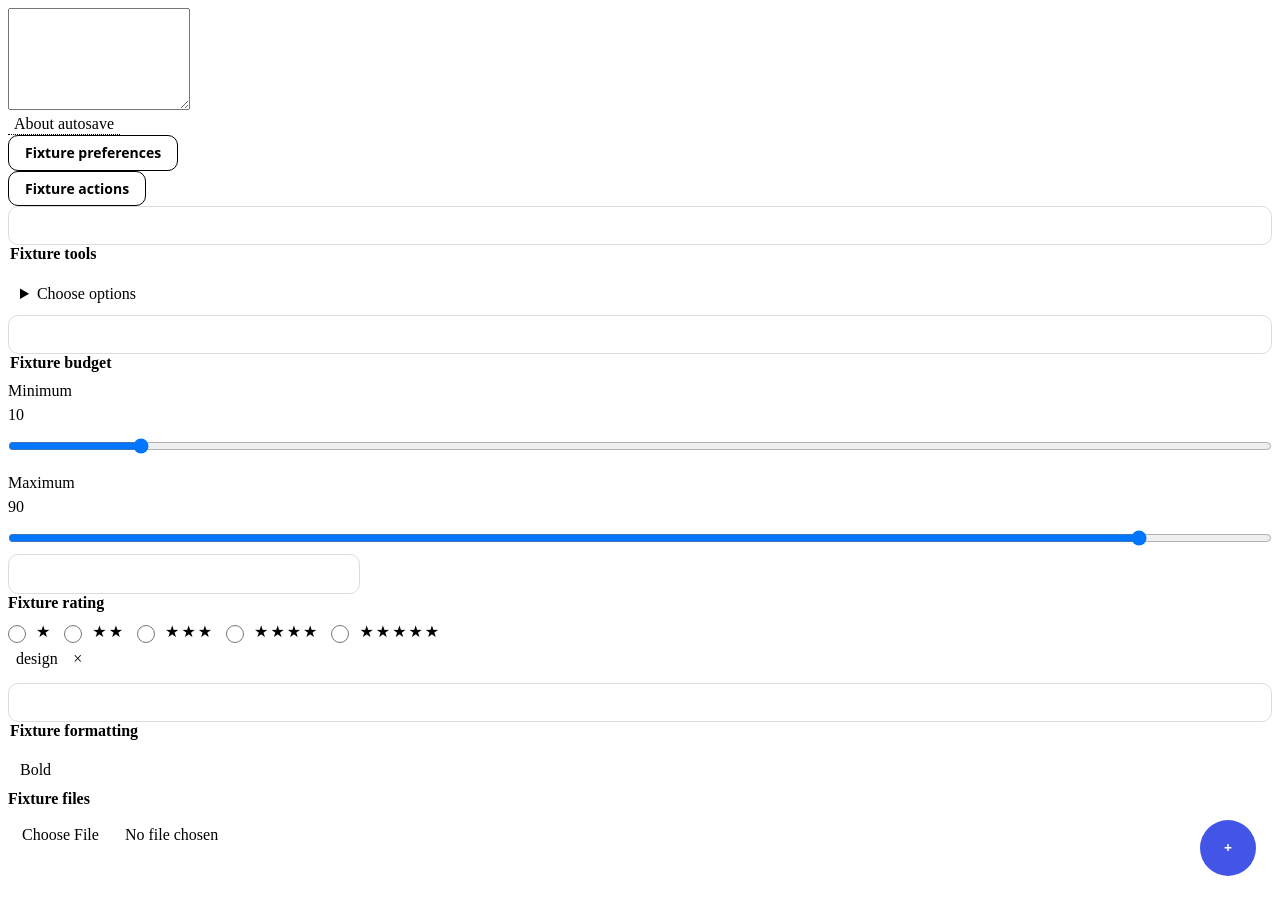
it: completion primitives › inserts plain-text mentions at the caret and dismisses suggestions
This screenshot has width=1280, height=900.
Step 1. Type "Hello @a" into the text box named "Comment" → (99, 59), box [8,8,190,110]
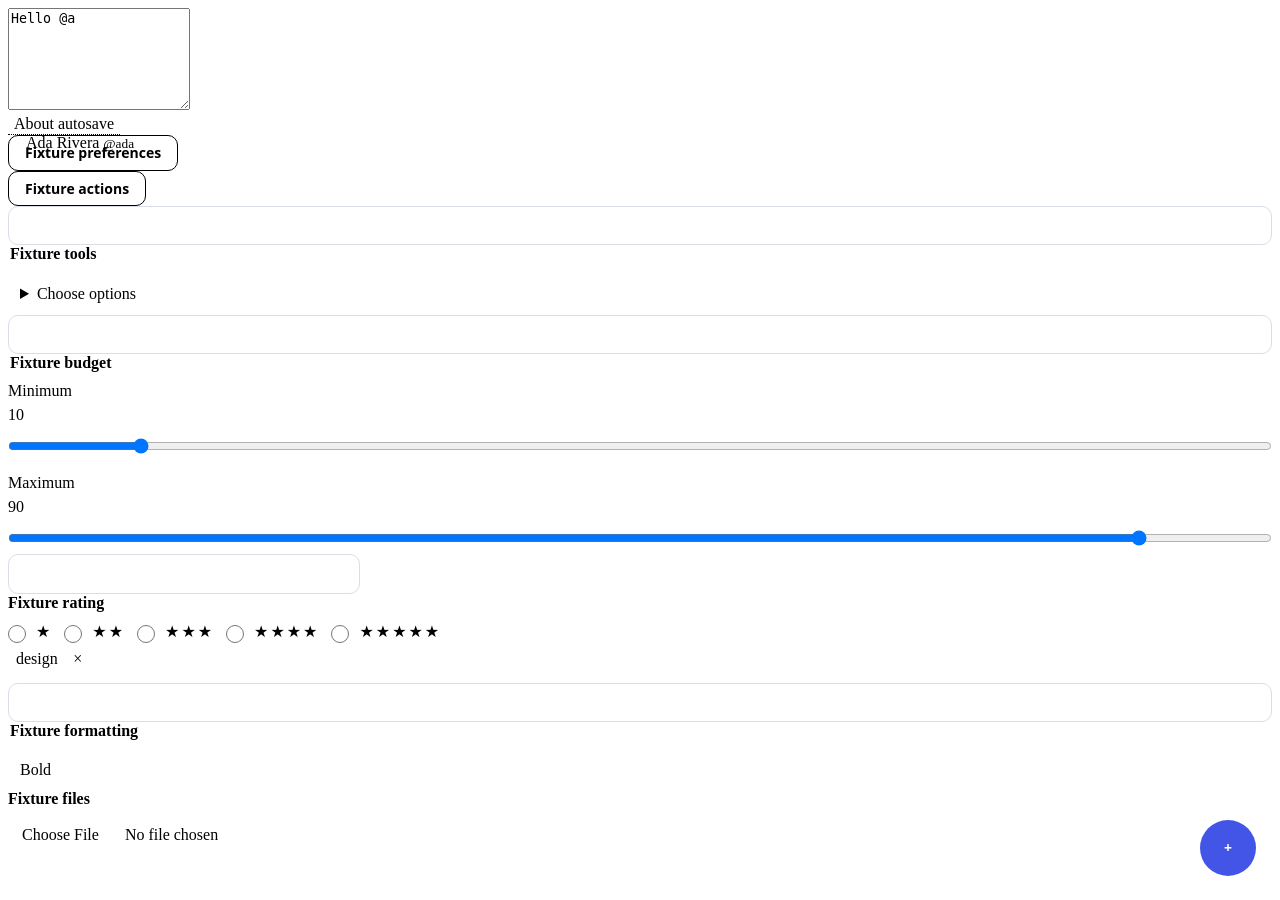
Step 2. Press Enter
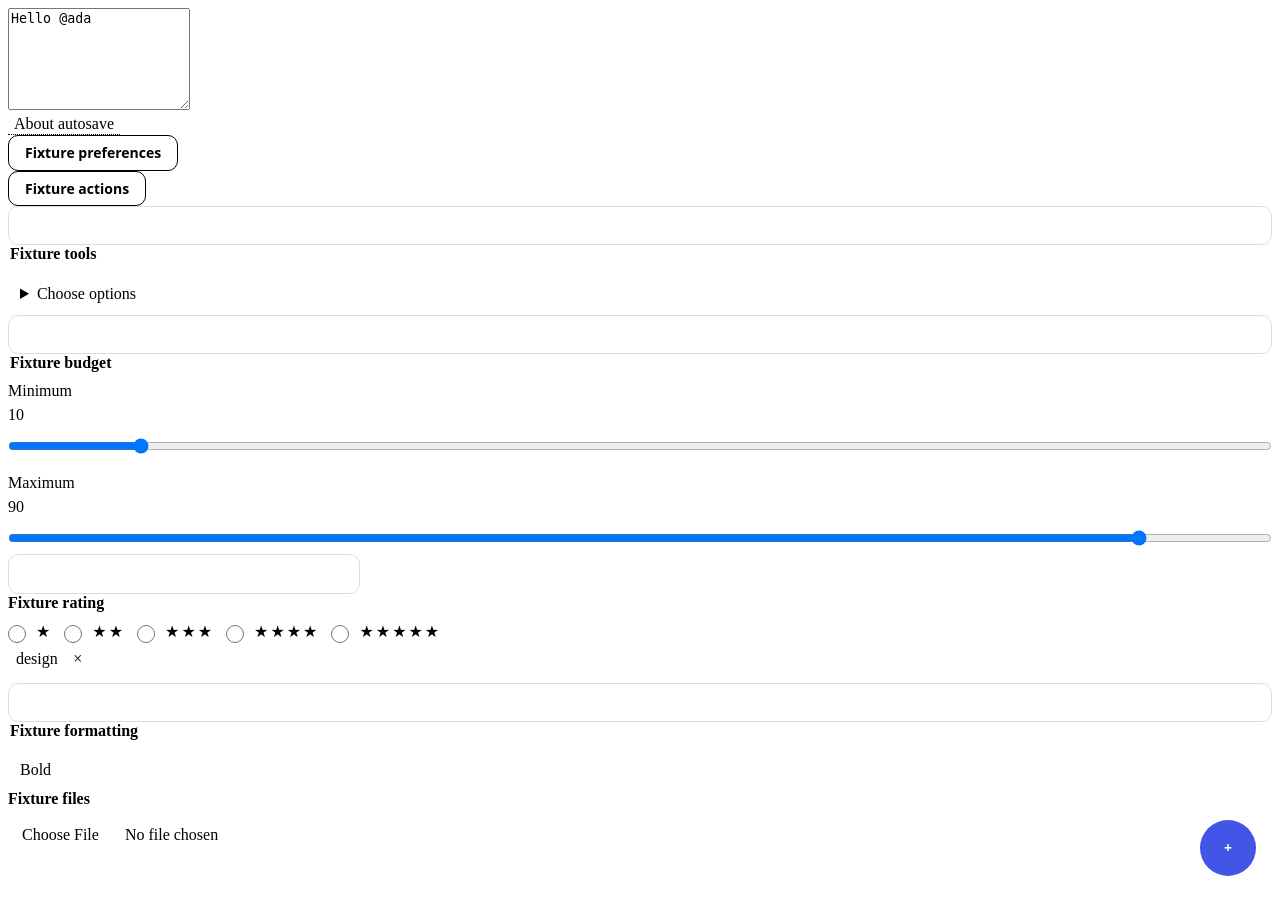
Check: the text box named "Comment" holds "Hello @ada ", box [8,8,190,110]
Check: the list "Ada Rivera @ada" is gone
